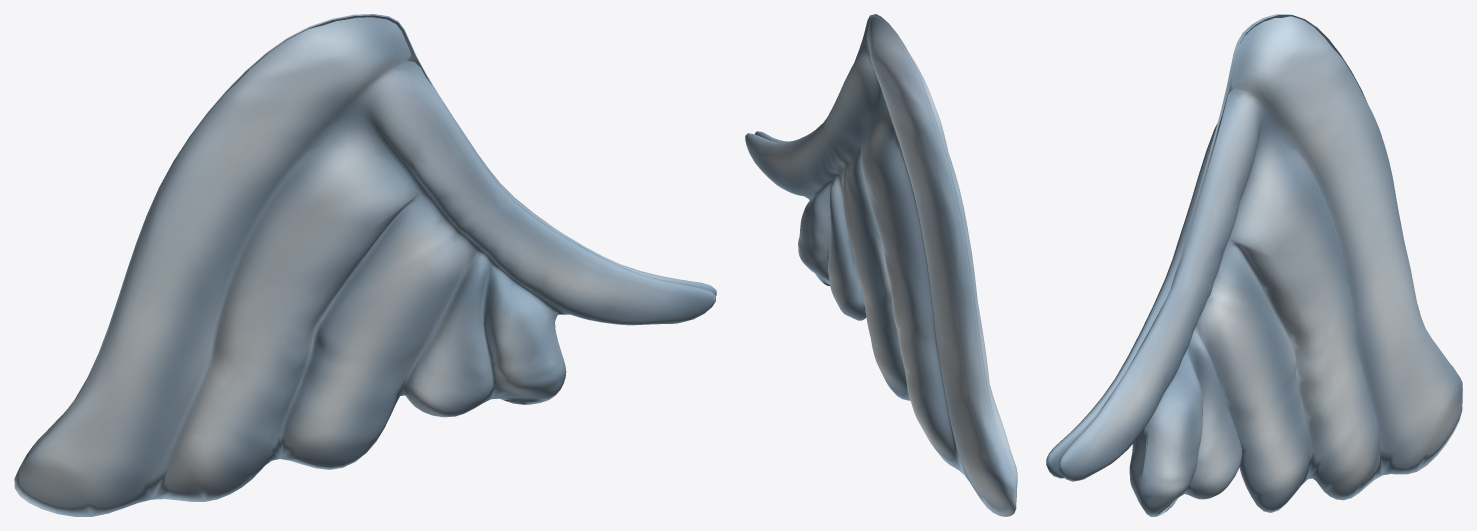
File: AD_Angel_Wing_Right.fbx
3 renders of one model, left to right at view 1: azimuth 30°, elevation 25°; view 2: azimuth 150°, elevation 25°; view 3: azimuth 270°, elevation 25°, orthographic. The views are drawn at different scales.
Visible parts, largest first — view 1: A_WingsRigth; view 2: A_WingsRigth; view 3: A_WingsRigth.
Boxes of the visible parts, bbox=[...] form: A_WingsRigth: bbox=[14, 14, 716, 516]; A_WingsRigth: bbox=[745, 14, 1017, 516]; A_WingsRigth: bbox=[1046, 14, 1462, 516].
Bounding box in the file's own units: 138 × 129 × 86.93.
